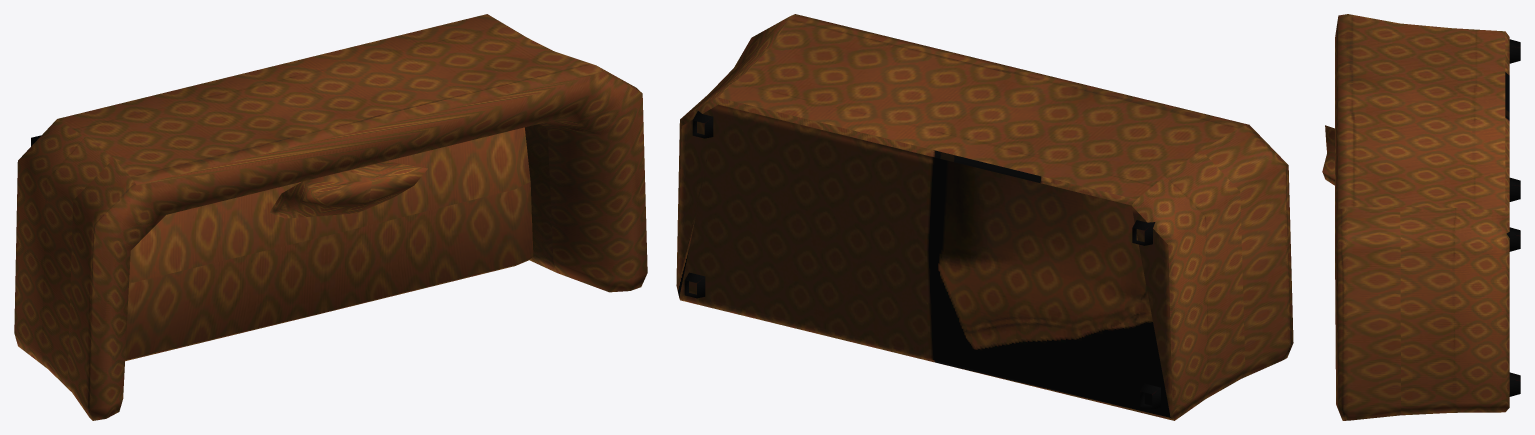
The model's file is nt_2020_moving_couch_01_LOD1.obj.
3 renders of one model, left to right at view 1: azimuth 30°, elevation 25°; view 2: azimuth 150°, elevation 25°; view 3: azimuth 270°, elevation 25°, orthographic. The views are drawn at different scales.
Parts seen in each view (by area): view 1: mtl_nt_2020_moving_couch_01; view 2: mtl_nt_2020_moving_couch_01; view 3: mtl_nt_2020_moving_couch_01.
Part boxes in pixels (bbox=[...]): mtl_nt_2020_moving_couch_01: bbox=[14, 14, 647, 420]; mtl_nt_2020_moving_couch_01: bbox=[676, 14, 1293, 420]; mtl_nt_2020_moving_couch_01: bbox=[1322, 14, 1520, 420].
Size of the model in its own units: 219 by 86.24 by 79.08.
